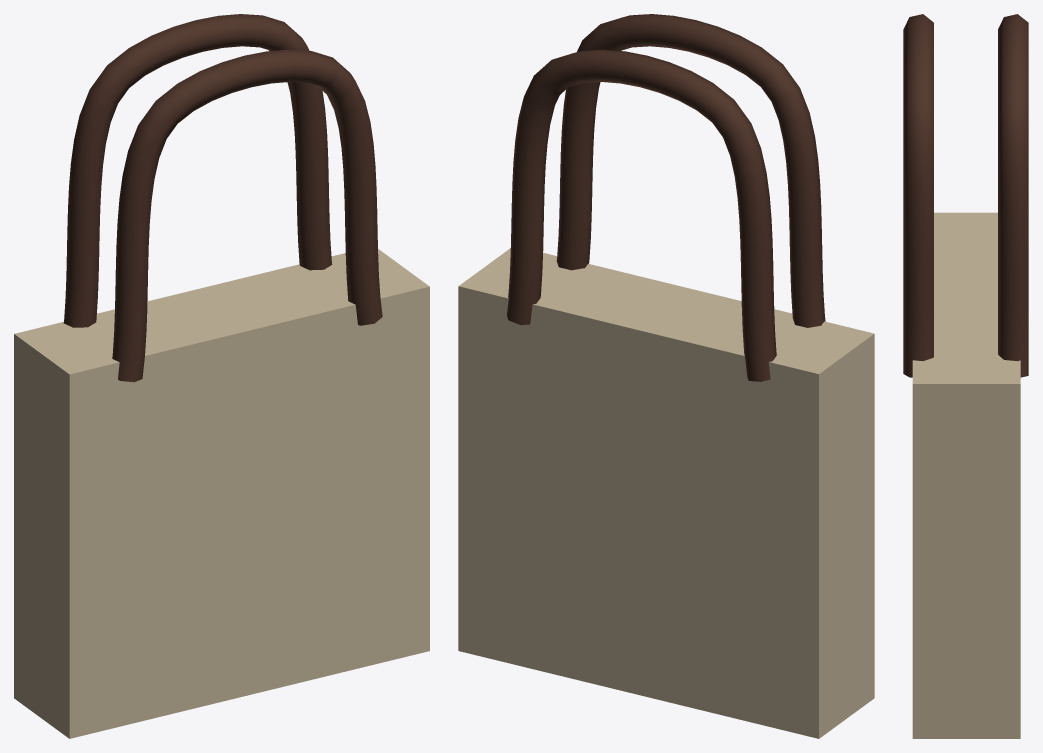
File: cabas-quotidien-femme.glb
The picture shows the model from 3 angles, left to right: view 1: azimuth 30°, elevation 25°; view 2: azimuth 150°, elevation 25°; view 3: azimuth 270°, elevation 25°; orthographic projection. The views are drawn at different scales.
Parts seen in each view (by area): view 1: edit-22; view 2: edit-22; view 3: edit-22.
Part boxes in pixels (left/top/right/bottom): edit-22: left=14, top=14, right=429, bottom=738; edit-22: left=458, top=14, right=874, bottom=738; edit-22: left=903, top=14, right=1028, bottom=738.
Size of the model in its own units: 0.3 by 0.5056 by 0.0928.
